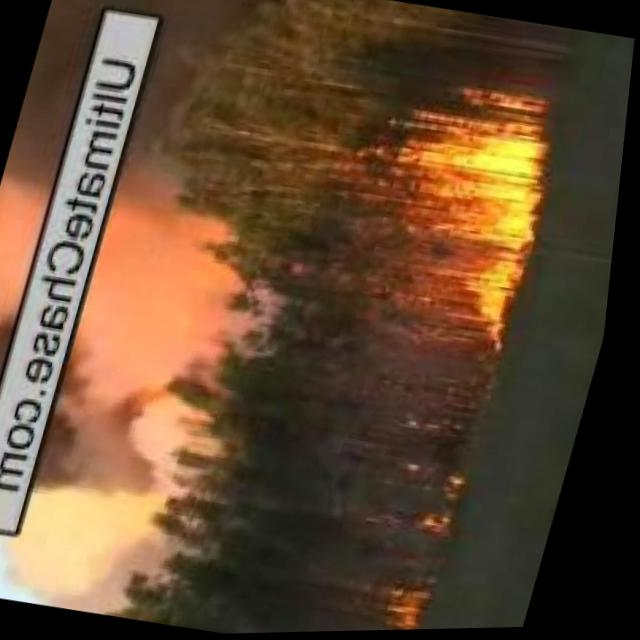Fire: (368, 84, 572, 348), (422, 474, 478, 537), (382, 583, 446, 632)
